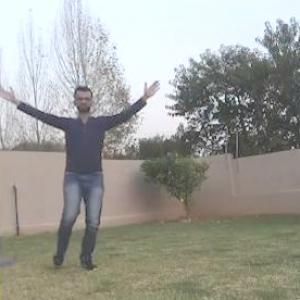takeoff: (1, 82, 154, 272)
